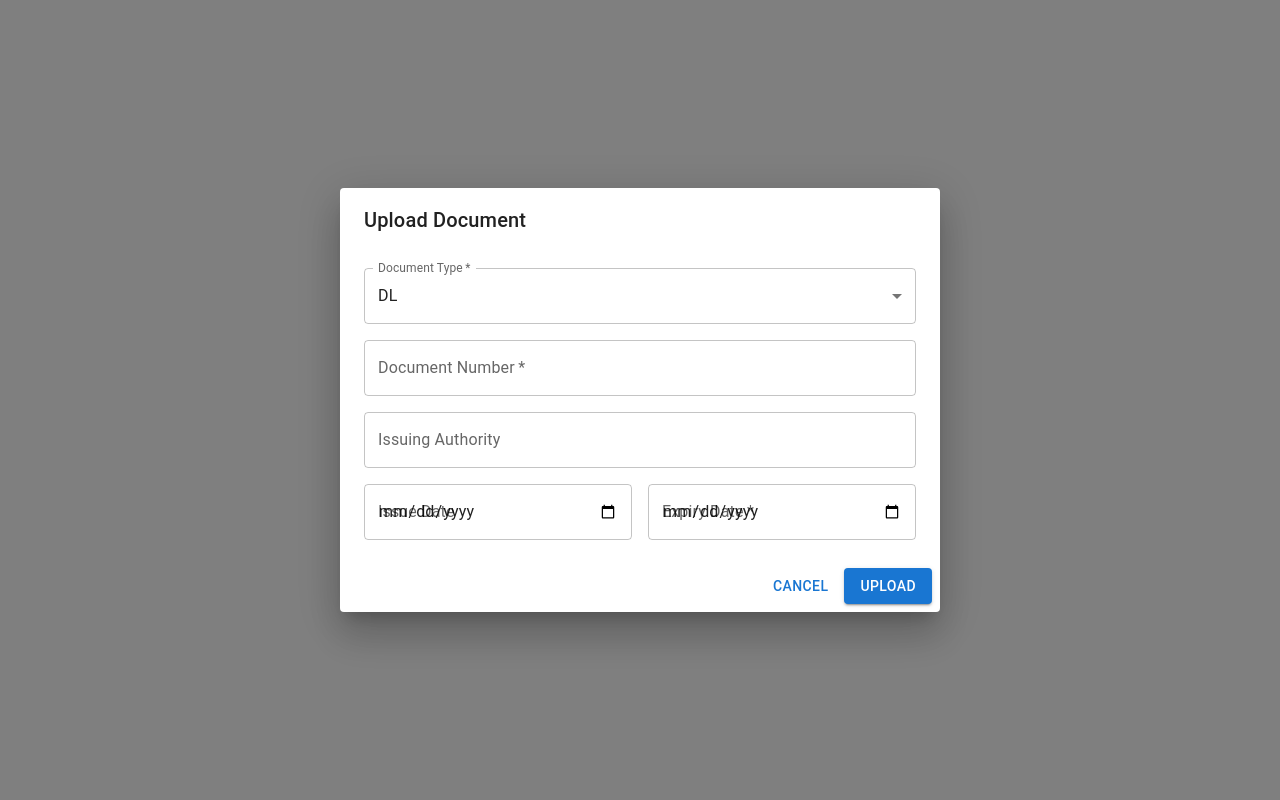
Test: DocumentUploadDialog › date picker enforces expiry > issued
Step 1. Type "KA0120230000000" into the field labelled "Document Number *" → (640, 368), box left=364, top=340, right=916, bottom=396
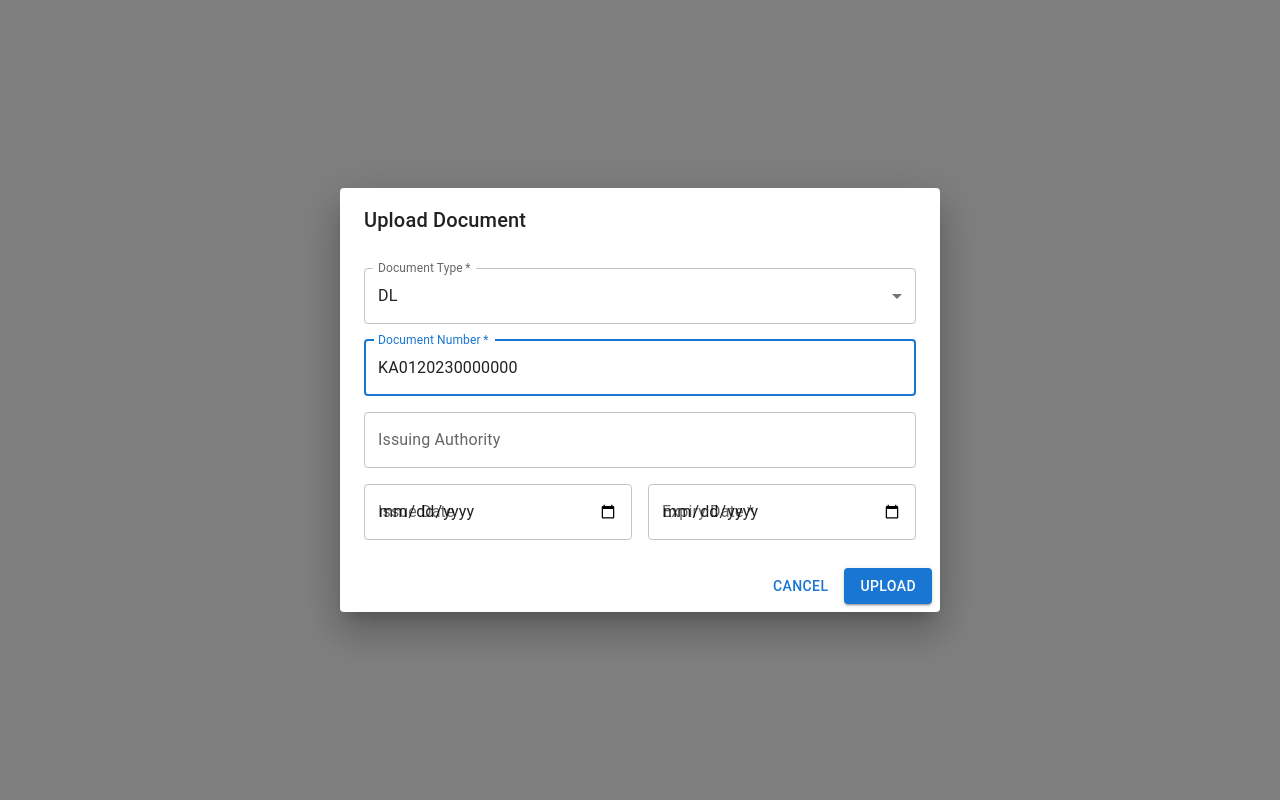
// For date inputs, use fireEvent.change
Step 2. Type "2024-10-01" into the date field labelled "Issue Date" → (498, 512), box left=364, top=484, right=632, bottom=540
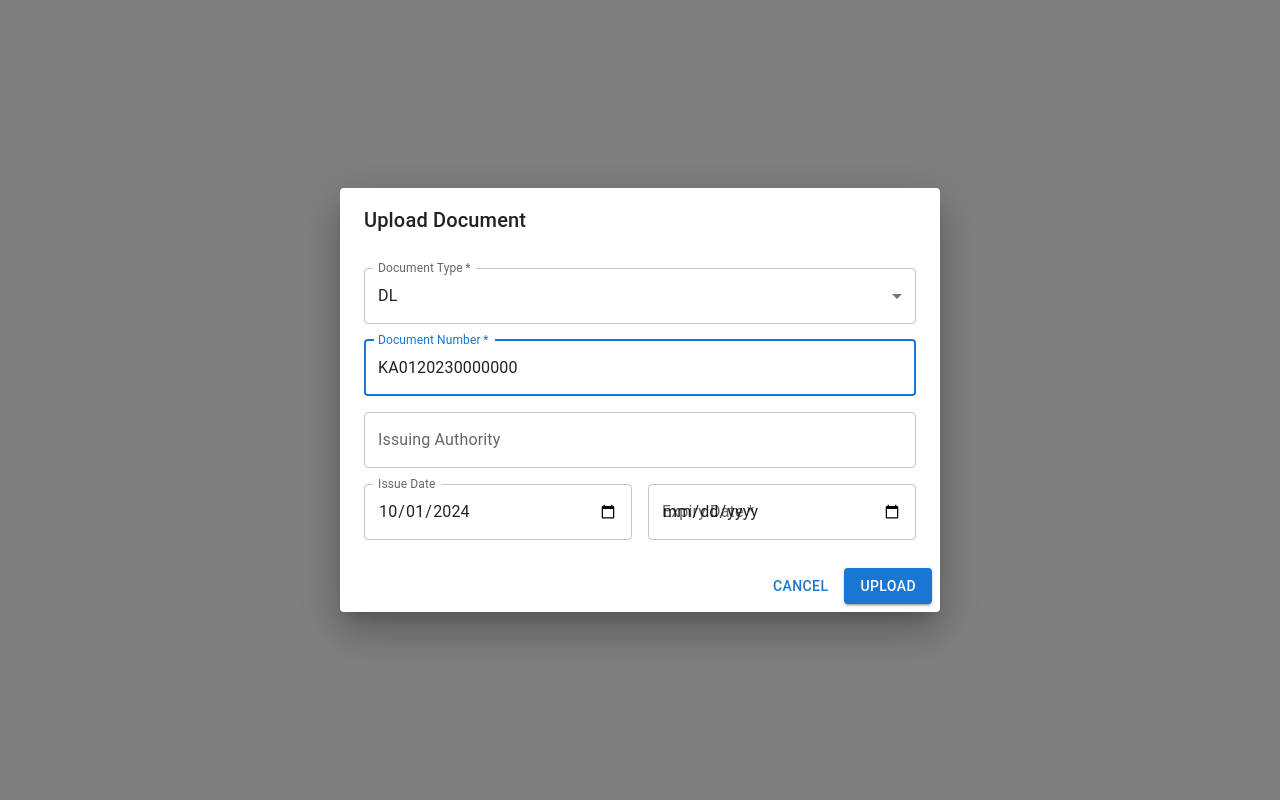
Step 3. Type "2024-09-01" into the date field labelled "Expiry Date *" → (782, 512), box left=648, top=484, right=916, bottom=540
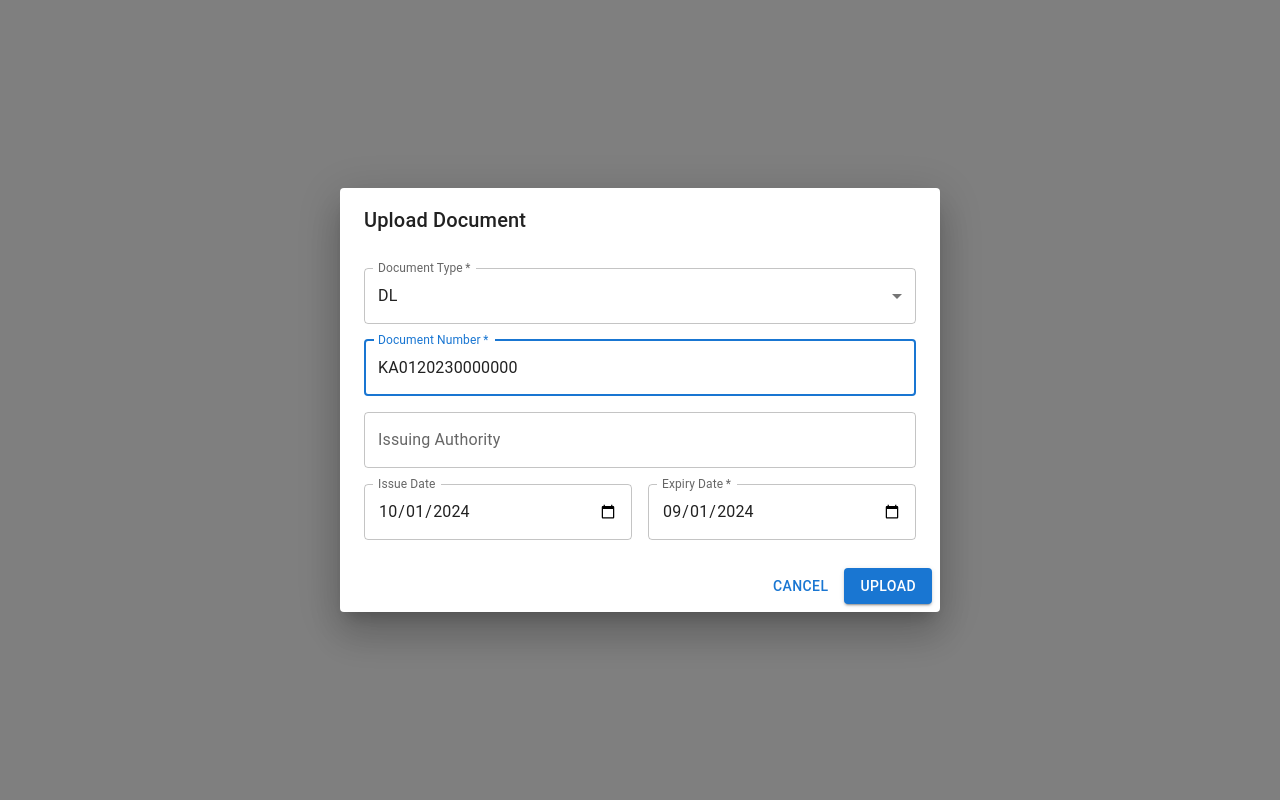
Step 4. Click the button "Upload" → (888, 586), box left=844, top=568, right=932, bottom=604
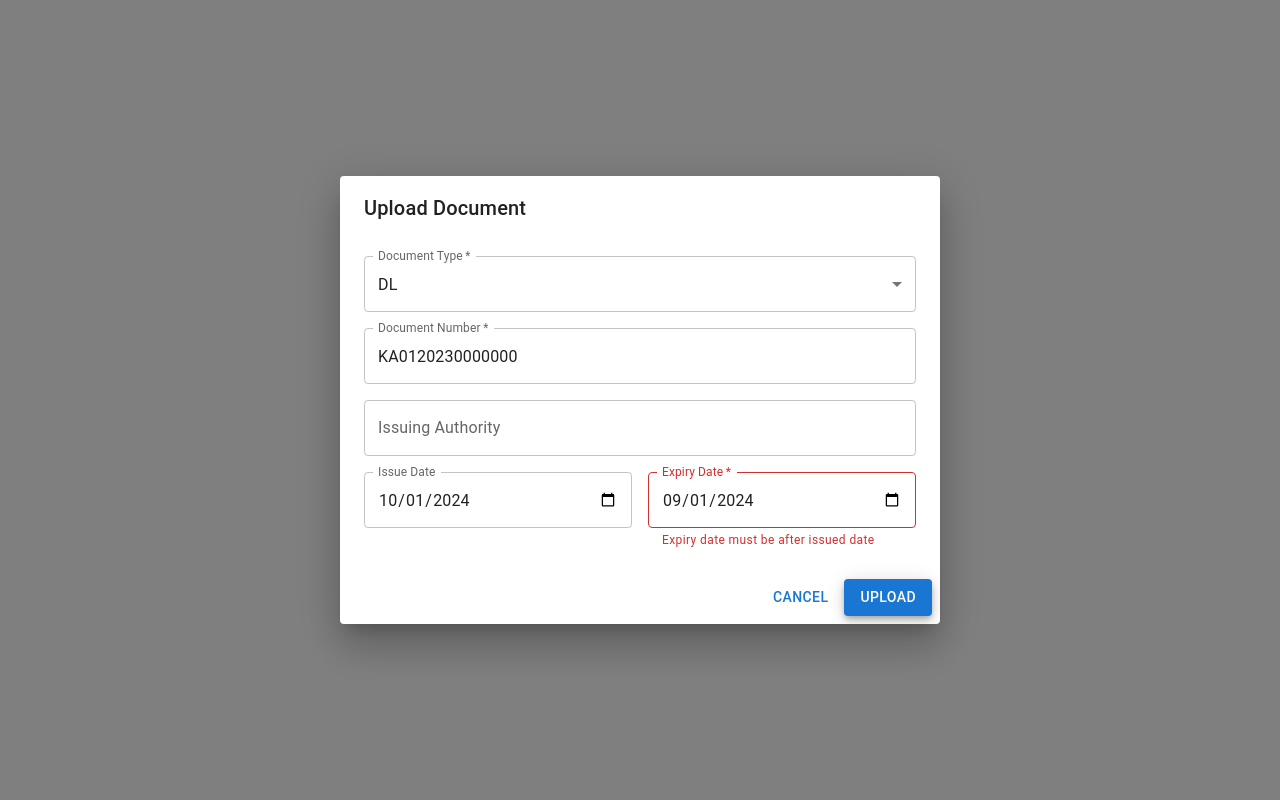
Check: the text "Expiry date must be after issued date" is shown, box left=662, top=531, right=902, bottom=551
